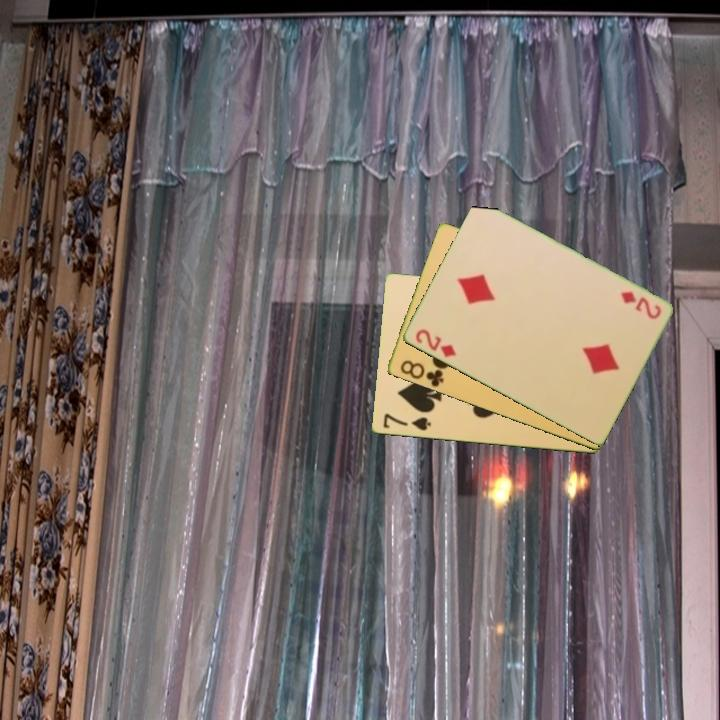2d: (411, 326, 458, 360), (617, 288, 664, 322)
7s: (379, 410, 434, 434)
8c: (396, 357, 446, 390)
